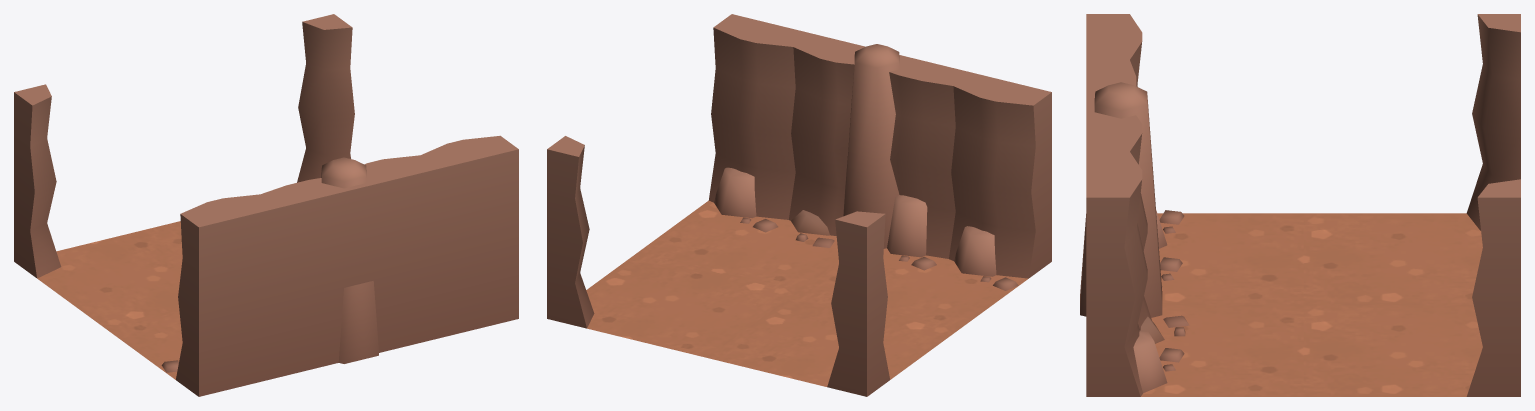
Rendered from corridor-wide-junction.glb.
3 renders of one model, left to right at view 1: azimuth 30°, elevation 25°; view 2: azimuth 150°, elevation 25°; view 3: azimuth 270°, elevation 25°, orthographic. The views are drawn at different scales.
Visible parts, largest first — view 1: corridor-wide-junction; view 2: corridor-wide-junction; view 3: corridor-wide-junction.
Part boxes in pixels (bbox=[...]): corridor-wide-junction: bbox=[14, 14, 518, 396]; corridor-wide-junction: bbox=[547, 14, 1051, 396]; corridor-wide-junction: bbox=[1080, 14, 1520, 396].
Size of the model in its own units: 8 by 4.4 by 8.12.
Materials: 1 (1 with a texture image).
